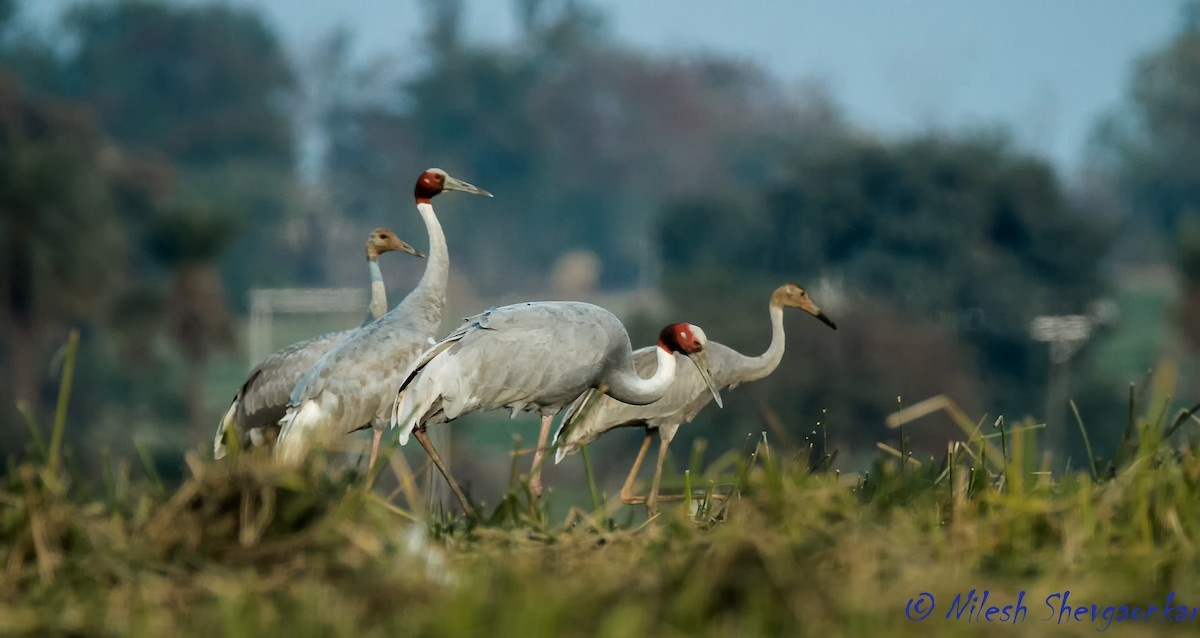crane: (264, 164, 498, 506), (408, 302, 726, 517), (226, 230, 427, 475), (723, 284, 846, 402)
